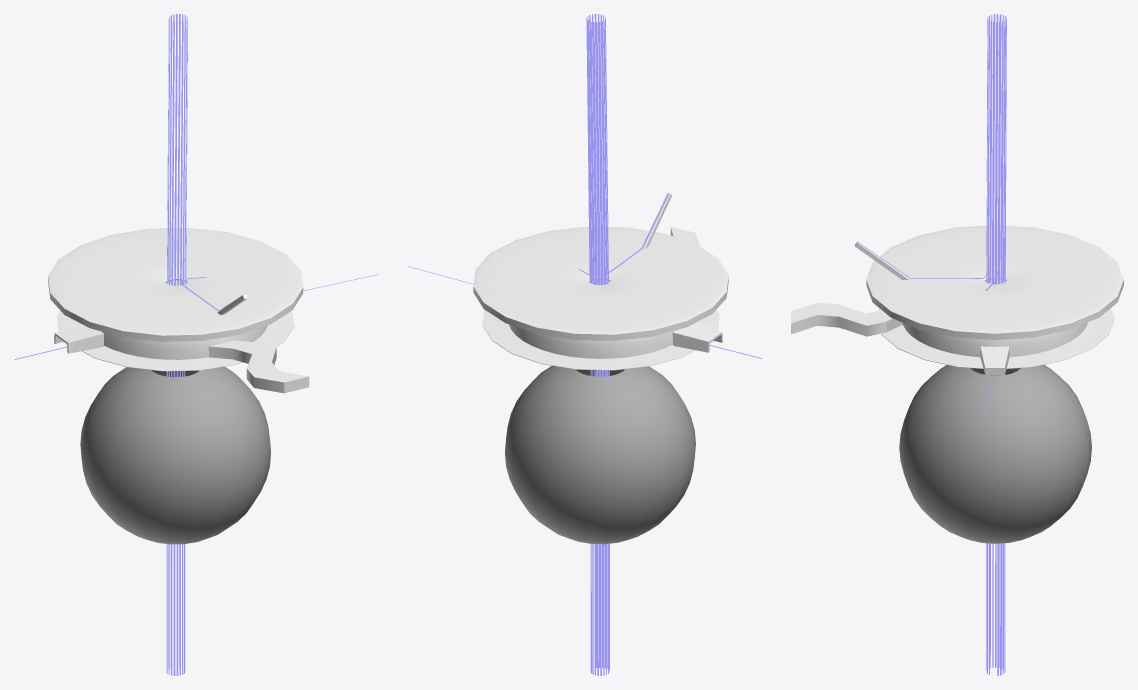
File: lobby_seperate3 (1).fbx
3 renders of one model, left to right at view 1: azimuth 30°, elevation 25°; view 2: azimuth 150°, elevation 25°; view 3: azimuth 270°, elevation 25°, orthographic.
Parts seen in each view (by area): view 1: Bworld_sphere, lobby_ceiling, line, lobby_floor, lobby_entry, lobby_wall, sketchroom_entry; view 2: Bworld_sphere, lobby_ceiling, line, lobby_floor, lobby_wall, sketchroom_entry; view 3: Bworld_sphere, lobby_ceiling, line, lobby_floor, lobby_wall, lobby_entry, right_entry.
Boxes of the visible parts, box(x1,y1,x2,y2) form: Bworld_sphere: box(80, 366, 270, 544); lobby_ceiling: box(48, 227, 303, 341); line: box(14, 14, 378, 675); lobby_floor: box(57, 283, 294, 371); lobby_entry: box(208, 340, 309, 393); lobby_wall: box(101, 325, 267, 359); sketchroom_entry: box(54, 323, 104, 353); Bworld_sphere: box(505, 366, 695, 544); lobby_ceiling: box(473, 226, 728, 340); line: box(407, 14, 761, 675); lobby_floor: box(482, 283, 719, 370); lobby_wall: box(509, 324, 675, 358); sketchroom_entry: box(672, 322, 722, 352); Bworld_sphere: box(899, 364, 1091, 543); lobby_ceiling: box(866, 225, 1123, 339); line: box(858, 14, 1006, 675); lobby_floor: box(878, 282, 1114, 368); lobby_wall: box(902, 322, 1087, 357); lobby_entry: box(791, 302, 898, 336); right_entry: box(980, 346, 1009, 375).
Bounding box in the file's own units: 20674 × 35924 × 16532.
5 materials, 2 textured.
